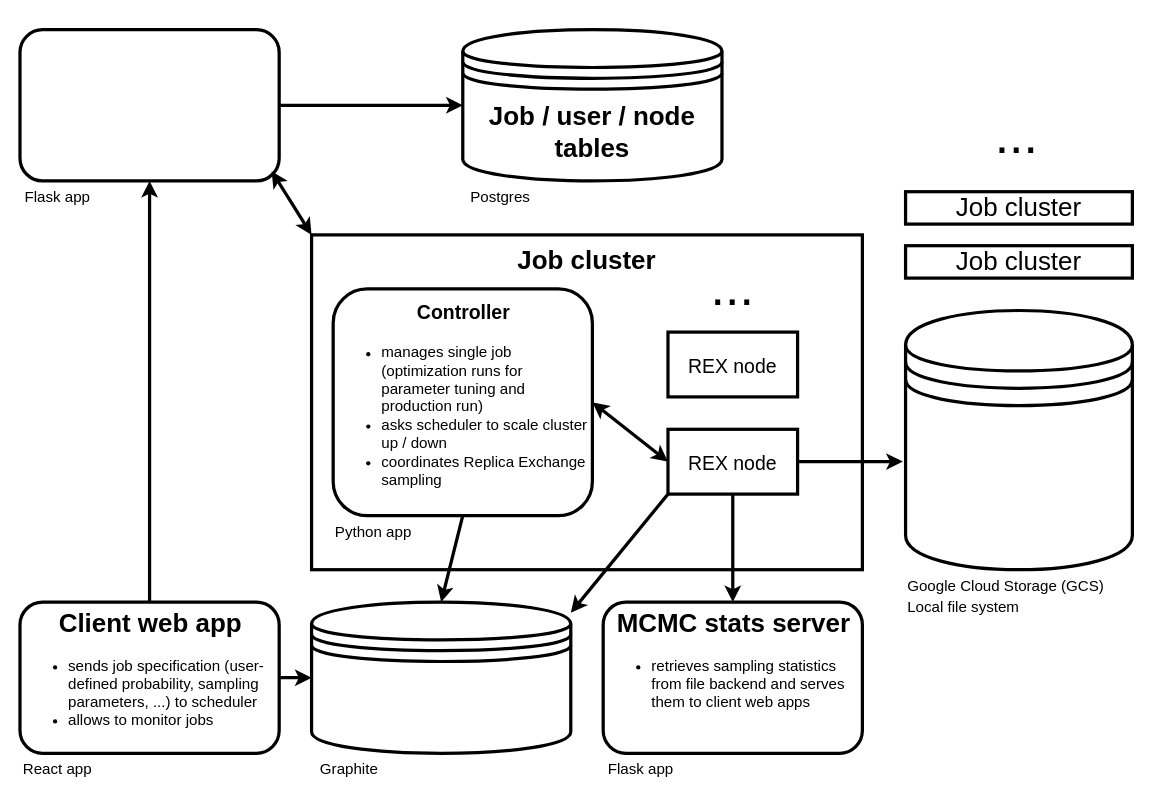
Some shapes in this 1152 by 805 pixel diagram are drawn without their labels. The centre of each missing label's shape, as x and y in pixels:
Logging server: (x=440, y=677)
Scheduler spins up / down job clusters manages users: (x=149, y=105)
Storage backend MCMC samples sampling statistics sampler configuration file: (x=1018, y=439)
